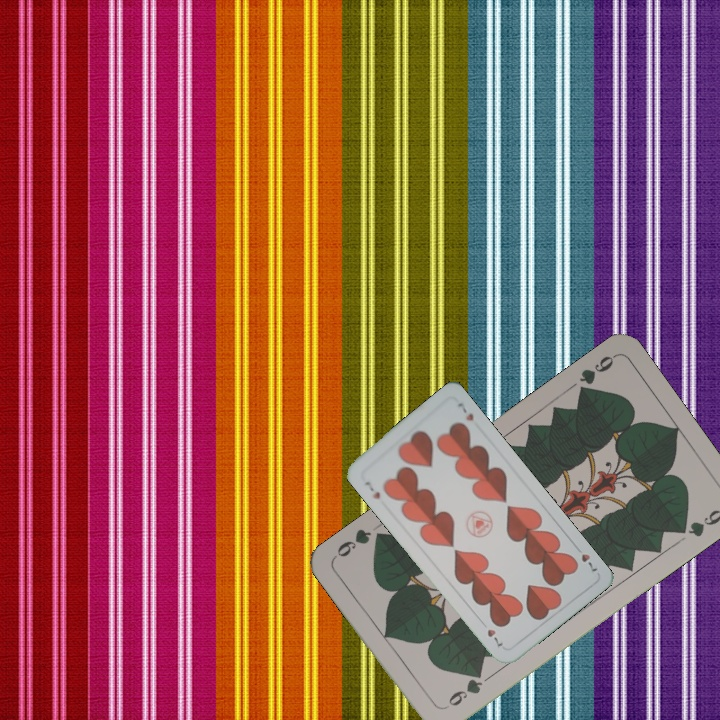G9: (573, 351, 618, 400), (439, 667, 485, 712)
H7: (571, 541, 601, 574), (361, 477, 383, 502)
